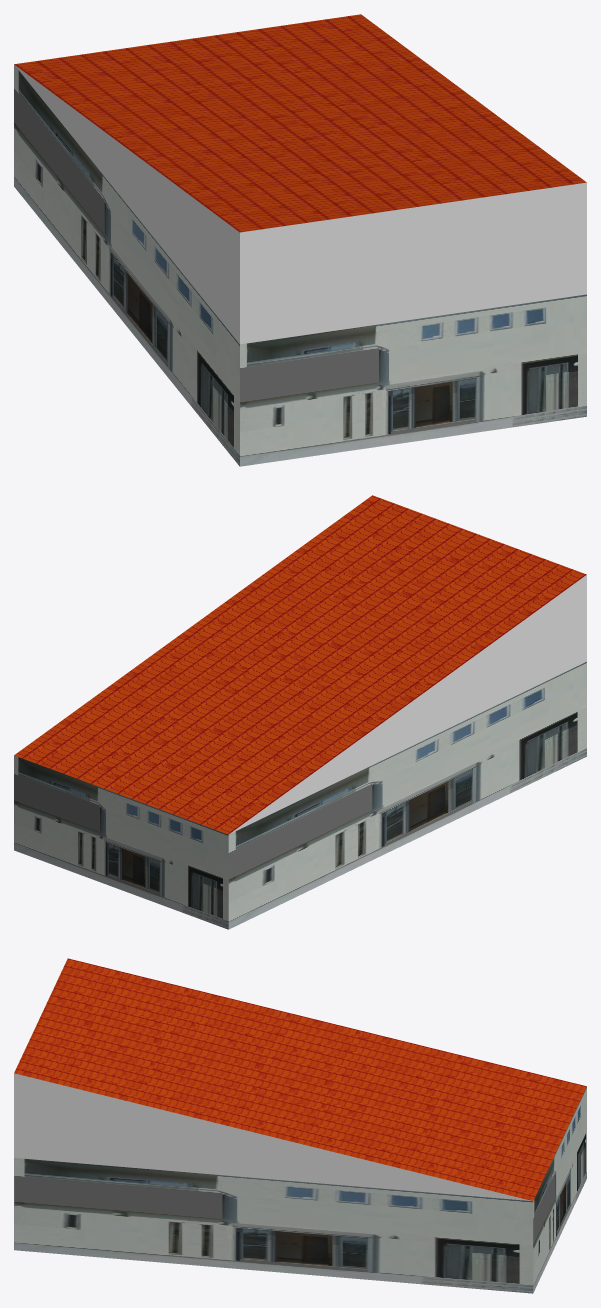
3 views of the same model, one above another, from view 1: azimuth 30°, elevation 25°; view 2: azimuth 150°, elevation 25°; view 3: azimuth 270°, elevation 25° (orthographic). The views are drawn at different scales.
Visible parts, largest first — view 1: CityEngineMaterial_11_m, CityEngineMaterial_12_m, CityEngineMaterial_3_m; view 2: CityEngineMaterial_12_m, CityEngineMaterial_11_m, CityEngineMaterial_3_m; view 3: CityEngineMaterial_12_m, CityEngineMaterial_11_m, CityEngineMaterial_3_m.
Boxes of the visible parts, x1,y1,x2,y2 form: CityEngineMaterial_11_m: [14, 64, 586, 466]; CityEngineMaterial_12_m: [14, 14, 586, 232]; CityEngineMaterial_3_m: [15, 65, 586, 344]; CityEngineMaterial_12_m: [14, 495, 586, 834]; CityEngineMaterial_11_m: [14, 661, 586, 929]; CityEngineMaterial_3_m: [230, 575, 586, 833]; CityEngineMaterial_12_m: [14, 958, 586, 1200]; CityEngineMaterial_11_m: [14, 1087, 586, 1293]; CityEngineMaterial_3_m: [14, 1073, 532, 1201].
Size of the model in its own units: 21.15 by 11.03 by 32.36.
